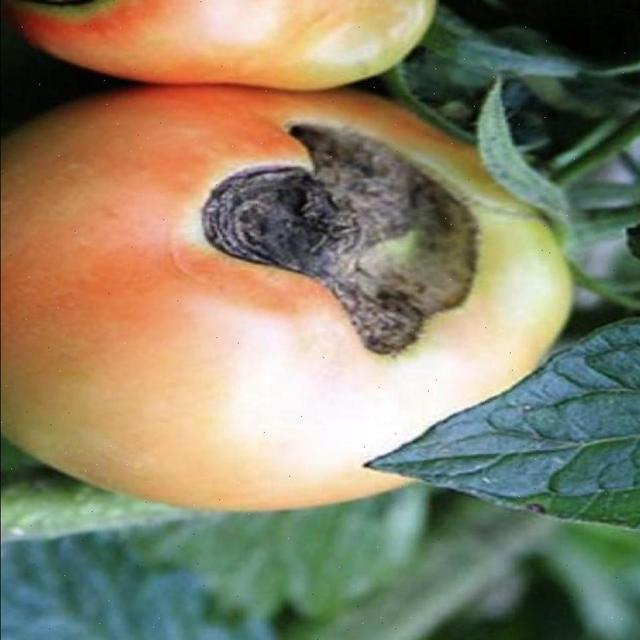Blossom End Rot Fruit: (42, 1, 228, 161)
